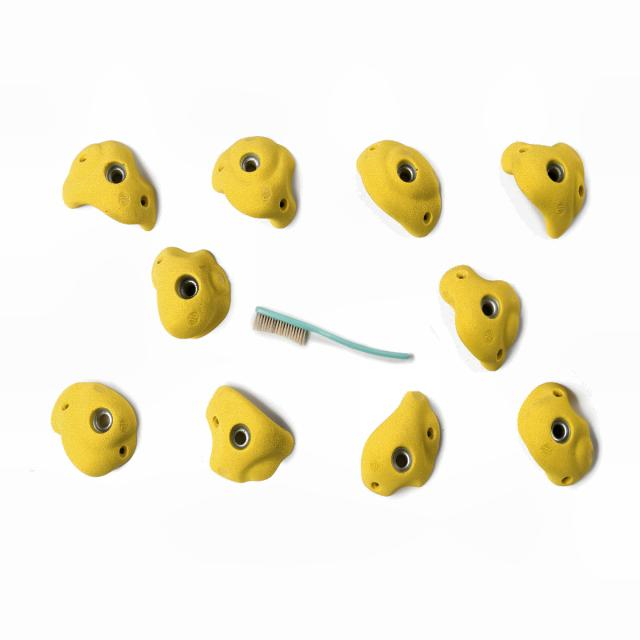Hold: (494, 133, 588, 240), (210, 133, 307, 234), (61, 136, 163, 231), (436, 263, 522, 371), (56, 379, 144, 484), (363, 385, 442, 498), (356, 137, 446, 236), (205, 383, 294, 480), (146, 247, 234, 343), (512, 385, 597, 483)
